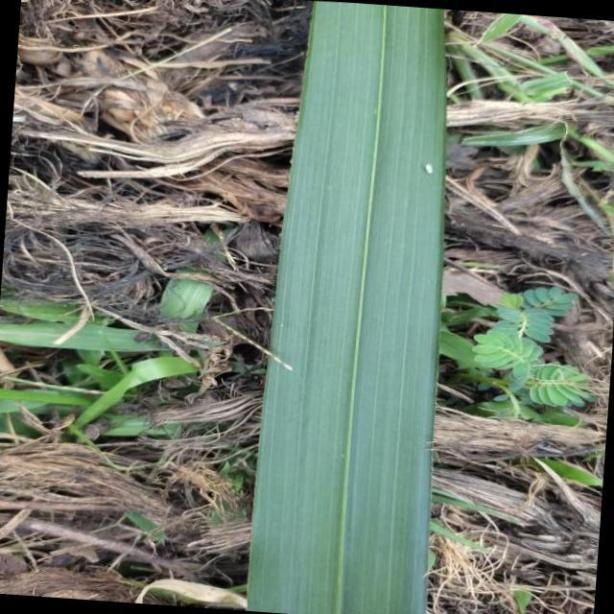Healthy: (253, 0, 444, 614)
